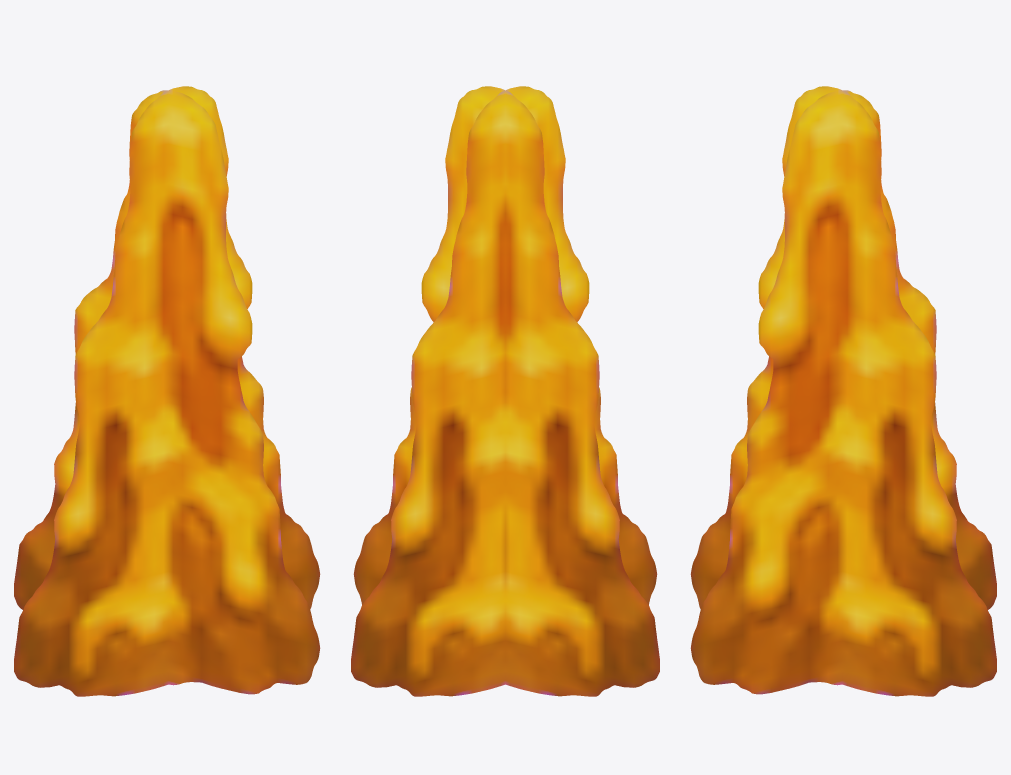
The model's file is h_ruche_touffe.glb.
3 views of the same model, side by side, from view 1: azimuth 30°, elevation 25°; view 2: azimuth 150°, elevation 25°; view 3: azimuth 270°, elevation 25° (orthographic).
Parts seen in each view (by area): view 1: h_ruche_touffe; view 2: h_ruche_touffe; view 3: h_ruche_touffe.
Part boxes in pixels (x1,y1,x2,y2): h_ruche_touffe: (14,86,320,696); h_ruche_touffe: (351,86,659,696); h_ruche_touffe: (690,86,996,696).
Bounding box in the file's own units: 0.1733 × 0.32 × 0.1501.
Materials: 1 (1 with a texture image).
